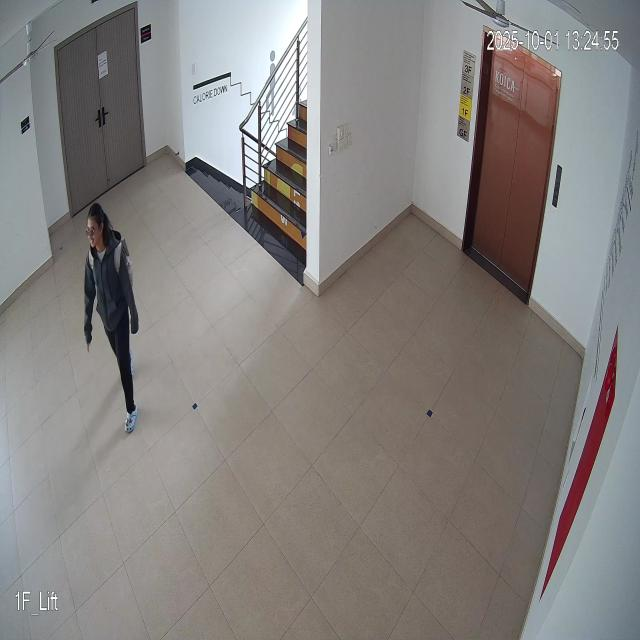face: (82, 202, 112, 259)
